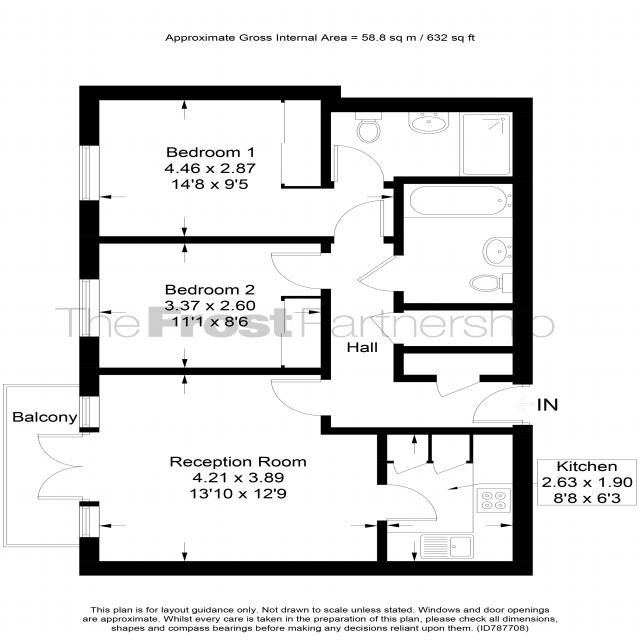DOOR: (377, 483, 444, 526), (331, 143, 391, 189), (351, 247, 406, 297), (268, 249, 331, 291), (330, 197, 386, 243), (268, 378, 331, 418), (469, 385, 531, 424)
DOUBLE DOOR: (34, 431, 100, 501)
ROOM: (79, 85, 393, 244), (78, 236, 331, 375), (377, 425, 533, 576)
WINDOW: (75, 276, 103, 340), (75, 142, 104, 203), (76, 504, 102, 539), (76, 395, 102, 429)
